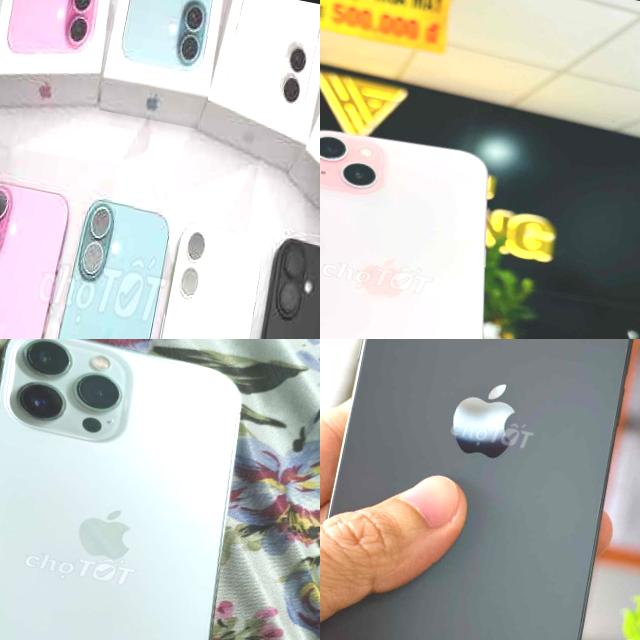gen_12_13: (0, 339, 277, 640)
gen_15: (320, 116, 542, 339)
gen_16: (320, 339, 640, 640), (0, 166, 74, 339)
